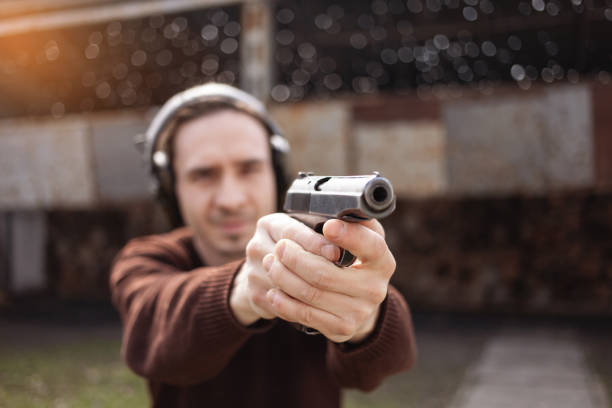gun: (284, 169, 399, 338)
